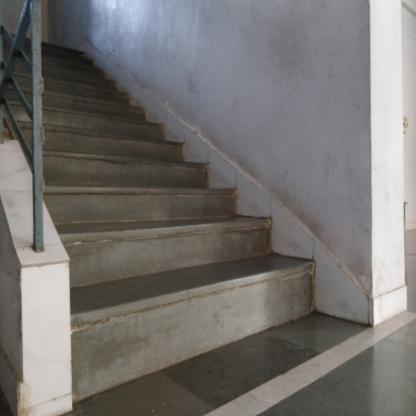stairs: (73, 173, 206, 407)
